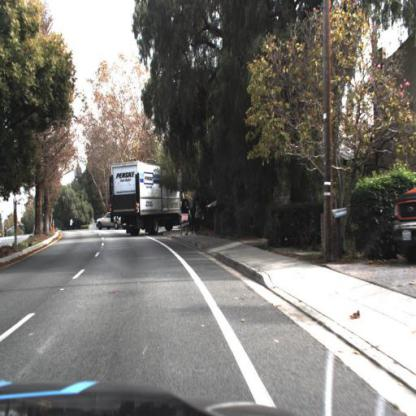car: (394, 183, 416, 268)
pedestrian: (96, 212, 123, 232), (180, 196, 192, 234), (195, 198, 204, 236), (194, 200, 202, 235), (192, 202, 196, 233)
truck: (107, 161, 185, 234)
